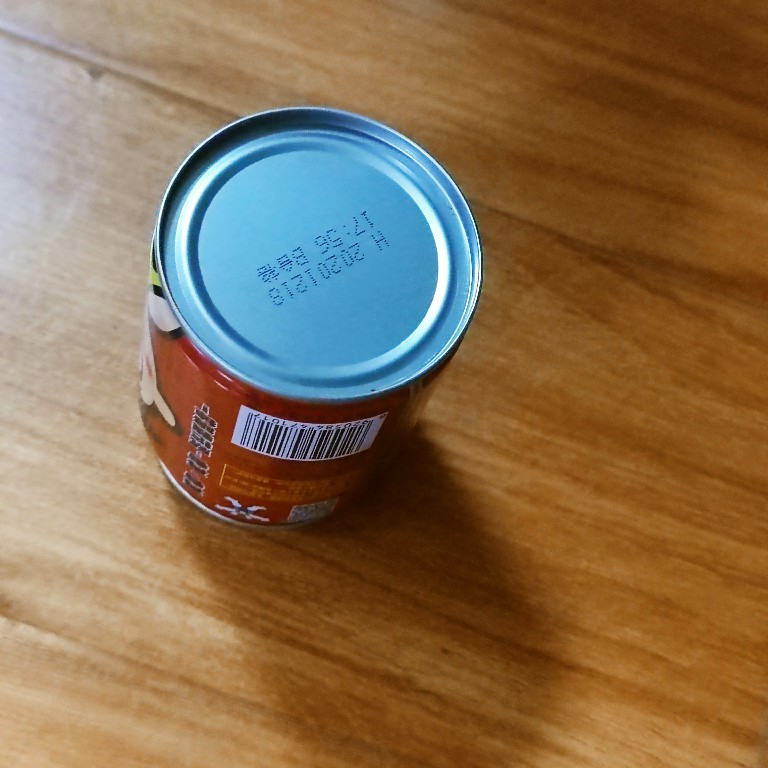can: (133, 104, 489, 539)
